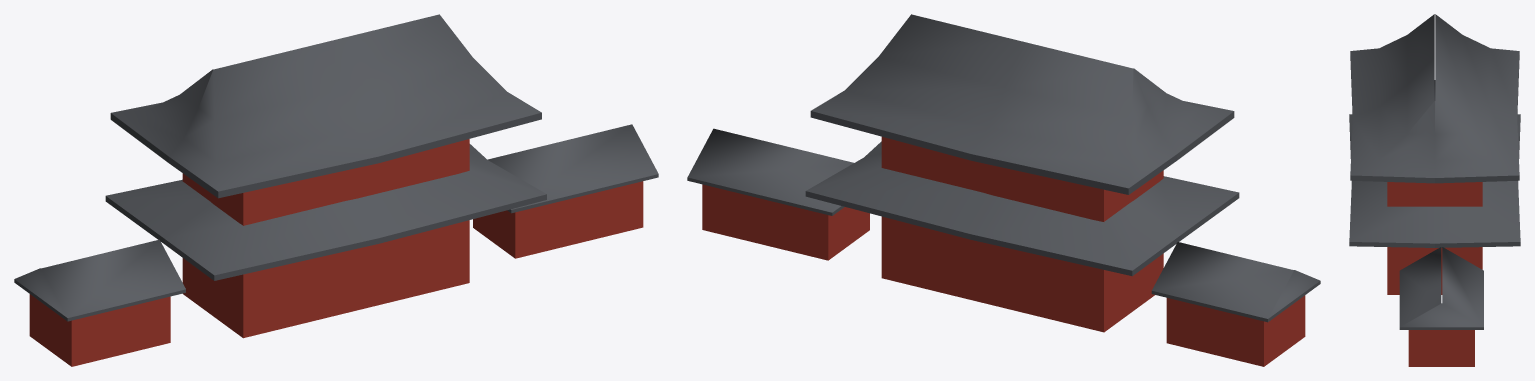
Rendered from zojoji_sangedatsumon_far.glb.
3 views of the same model, side by side, from view 1: azimuth 30°, elevation 25°; view 2: azimuth 150°, elevation 25°; view 3: azimuth 270°, elevation 25° (orthographic). The views are drawn at different scales.
Visible parts, largest first — view 1: Sangedatsumon_Far; view 2: Sangedatsumon_Far; view 3: Sangedatsumon_Far.
Part boxes in pixels (box(x1,y1,x2,y2)): Sangedatsumon_Far: box(14, 14, 658, 366); Sangedatsumon_Far: box(687, 14, 1320, 366); Sangedatsumon_Far: box(1349, 14, 1520, 366).
Bounding box in the file's own units: 54.9 × 21.9 × 17.51.
